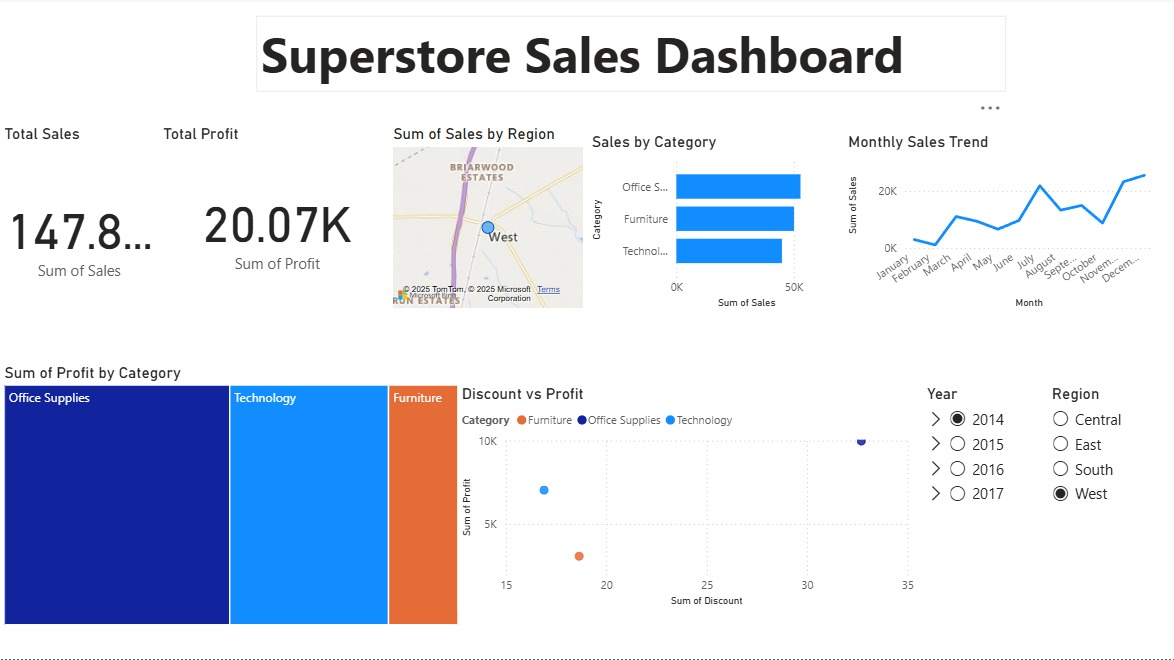

What the dashboard file says about the page in this screenshot:
{"tool":"powerbi","page":{"name":"Page 1","canvas":[1280,720],"ordinal":0},"visuals":[{"type":"card","title":"Total Sales","fields":{"Values":["Sum(Sample - Superstore.Sales)"]},"box":[0,138.6,172.6,221.5],"z":0},{"type":"card","title":"Total Profit","fields":{"Values":["Sum(Sample - Superstore.Profit)"]},"box":[172.6,138.6,258.2,205.2],"z":1000},{"type":"map","fields":{"Category":["Sample - Superstore.Region"],"Size":["Sum(Sample - Superstore.Sales)"]},"box":[422.7,138.6,216.1,205.2],"z":2000},{"type":"clusteredBarChart","title":"Sales by Category","fields":{"Category":["Sample - Superstore.Category"],"Y":["Sum(Sample - Superstore.Sales)"]},"box":[638.8,146.8,265,197.1],"z":2001},{"type":"lineChart","title":"Monthly Sales Trend","fields":{"Category":["Sample - Superstore.Order Date.Variation.Date Hierarchy.Month"],"Y":["Sum(Sample - Superstore.Sales)"]},"box":[917.4,146.8,341.1,197.1],"z":2002},{"type":"treemap","fields":{"Values":["Sum(Sample - Superstore.Profit)"],"Group":["Sample - Superstore.Category"]},"box":[0,398.2,502.9,289.5],"z":2003},{"type":"scatterChart","title":"Discount vs Profit","fields":{"X":["Sum(Sample - Superstore.Discount)"],"Y":["Sum(Sample - Superstore.Profit)"],"Series":["Sample - Superstore.Category"]},"box":[497.4,421.3,501.5,246],"z":2004},{"type":"listSlicer","fields":{"Values":["Sample - Superstore.Region"]},"box":[1138.9,421.3,119.6,244.6],"z":2007},{"type":"listSlicer","fields":{"Values":["Sample - Superstore.Order Date.Variation.Date Hierarchy.Year","Sample - Superstore.Order Date.Variation.Date Hierarchy.Quarter","Sample - Superstore.Order Date.Variation.Date Hierarchy.Month","Sample - Superstore.Order Date.Variation.Date Hierarchy.Day"]},"box":[1003,421.3,123.7,244.6],"z":2008},{"type":"textbox","box":[278.6,20.6,815.1,82.3],"z":2009}]}

Visuals, with their boxes in screenshot pixels (x1, y1, x2, y2), scaled from the page's 1280x720 canvas onto the 1174x660 screenshot:
"Total Sales" card: box=[0, 127, 158, 330]
"Total Profit" card: box=[158, 127, 395, 315]
map - Sample - Superstore.Region x Sum(Sample - Superstore.Sales): box=[388, 127, 586, 315]
"Sales by Category" clusteredBarChart: box=[586, 135, 829, 315]
"Monthly Sales Trend" lineChart: box=[841, 135, 1154, 315]
treemap - Sum(Sample - Superstore.Profit) x Sample - Superstore.Category: box=[0, 365, 461, 630]
"Discount vs Profit" scatterChart: box=[456, 386, 916, 612]
listSlicer - Sample - Superstore.Region: box=[1045, 386, 1154, 610]
listSlicer - Sample - Superstore.Order Date.Variation.Date Hierarchy.Year x Sample - Superstore.Order Date.Variation.Date Hierarchy.Quarter: box=[920, 386, 1033, 610]
textbox: box=[256, 19, 1003, 94]
